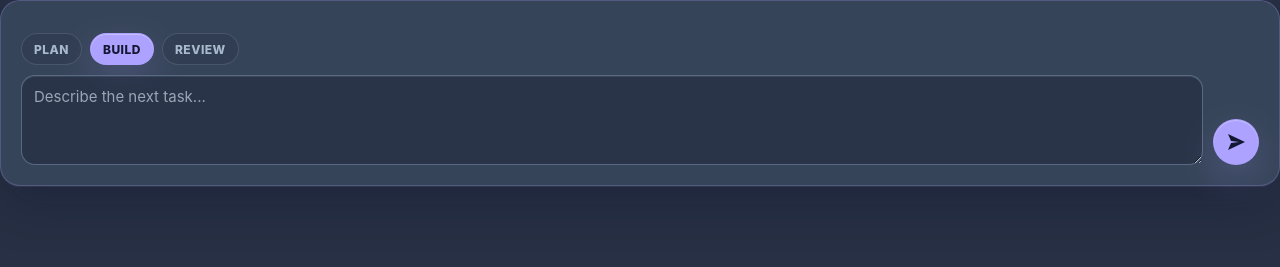
Test case: ComposerCard › surfaces start-run failures
Type "try again" into the text box named "prompt" at (612,120), box [21,75,1203,164]
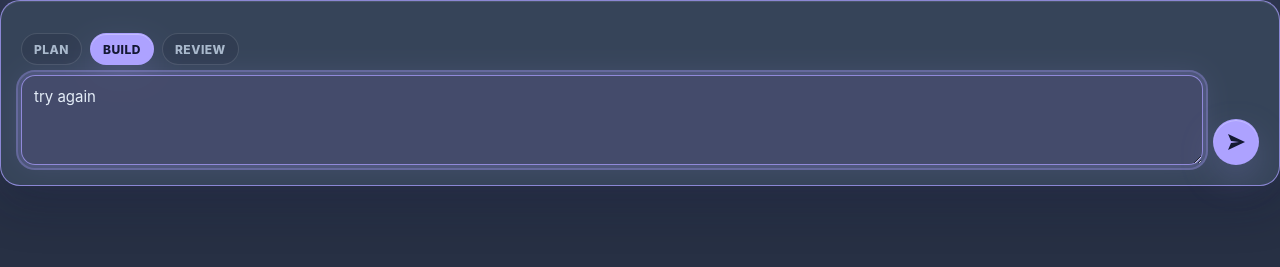
Click the button named "Send prompt" at (1236,142), box [1213,118,1259,164]
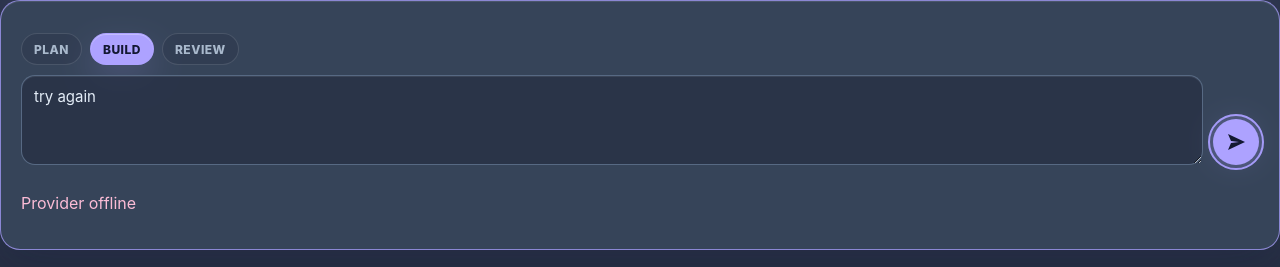
Result: the text "Provider offline" is shown at [21,192,136,212]
